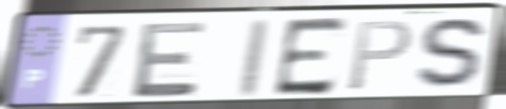7: (75, 23, 130, 101)
E: (271, 15, 351, 100), (130, 19, 209, 101)
I: (233, 17, 274, 101)
P: (344, 18, 415, 94)
S: (412, 15, 493, 93)
